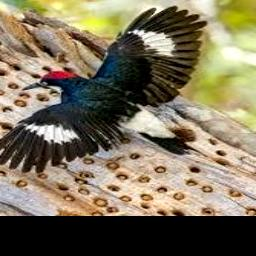Woodpecker: (0, 6, 207, 173)
